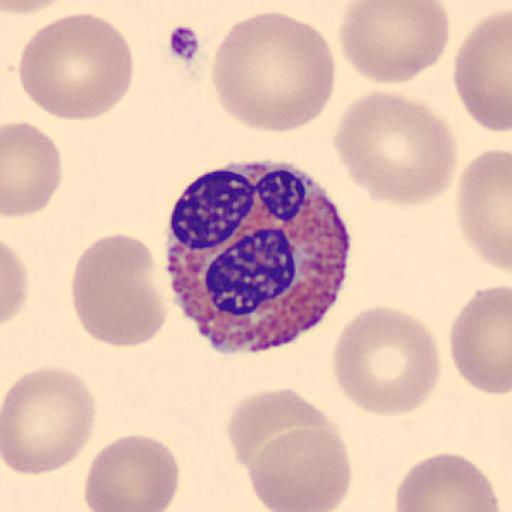RBC: (211, 9, 337, 135), (333, 88, 458, 208), (17, 11, 135, 122), (330, 304, 441, 418), (70, 232, 166, 348), (226, 386, 343, 480), (1, 364, 97, 478), (338, 0, 452, 86), (246, 427, 353, 511), (83, 432, 180, 512), (452, 8, 512, 134), (455, 146, 512, 274), (449, 284, 512, 396), (394, 451, 502, 512), (1, 120, 64, 219), (1, 238, 30, 328), (1, 0, 70, 17)
WBC: (164, 158, 351, 357)
